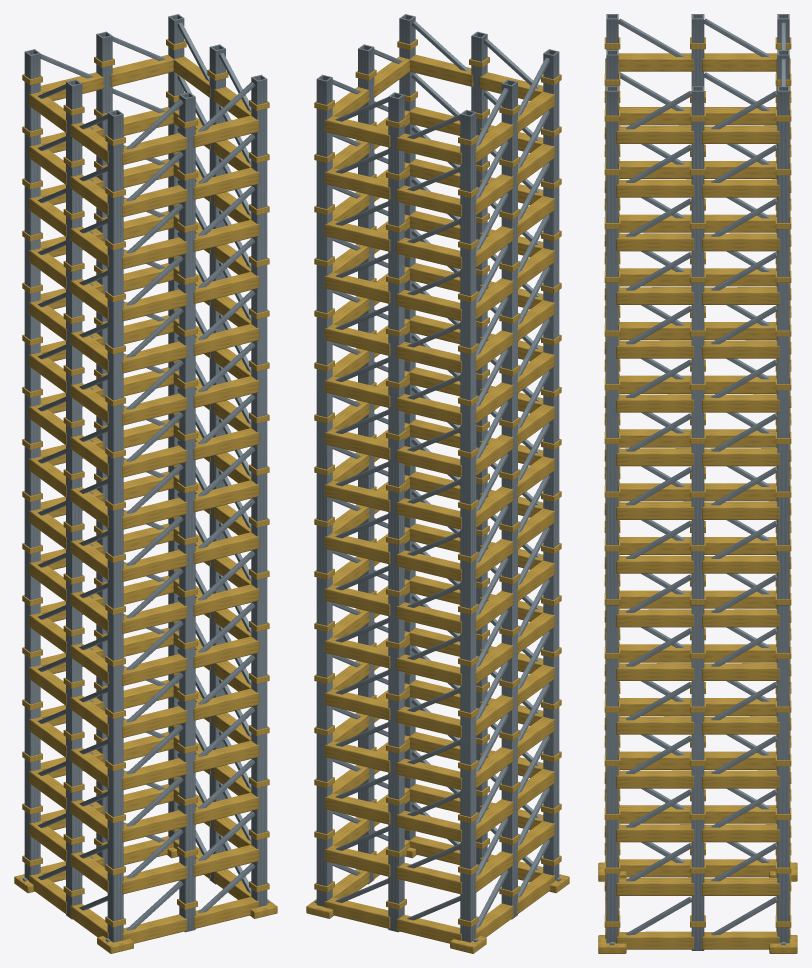
3 renders of one model, left to right at view 1: azimuth 30°, elevation 25°; view 2: azimuth 150°, elevation 25°; view 3: azimuth 270°, elevation 25°, orthographic. The views are drawn at different scales.
Visible parts, largest first — view 1: Tier 0 side 0 post 0, Tier 0 side 1 post 0, Tier 0 side 0 post 1, Tier 0 side 3 post 0, Tier 0 side 3 post 1, Tier 0 side 1 post 1, Tier 0 side 2 post 1, Tier 0 side 2 post 0, Tier 0 bay 0-5-1 service deck, Tier 0 bay 0-2-1 service deck, Tier 0 bay 0-8-1 service deck, Tier 0 bay 0-6-1 service deck (+89 smaller); view 2: Tier 0 side 3 post 0, Tier 0 side 2 post 0, Tier 0 side 2 post 1, Tier 0 side 0 post 0, Tier 0 side 3 post 1, Tier 0 side 1 post 1, Tier 0 side 0 post 1, Tier 0 side 1 post 0, Tier 0 bay 2-4-0 service deck, Tier 0 bay 2-11-0 service deck, Tier 0 bay 2-5-0 service deck, Tier 0 bay 2-10-0 service deck (+94 smaller); view 3: Tier 0 side 1 post 1, Tier 0 side 1 post 0, Tier 0 side 2 post 0, Tier 0 bay 1-2-1 service deck, Tier 0 bay 1-9-0 service deck, Tier 0 bay 1-9-1 service deck, Tier 0 bay 1-13-1 service deck, Tier 0 bay 1-2-0 service deck, Tier 0 bay 1-13-0 service deck, Tier 0 bay 1-6-1 service deck, Tier 0 bay 1-6-0 service deck, Tier 0 bay 1-10-1 service deck (+56 smaller).
Boxes of the visible parts, x1,y1,x2,y2 form: Tier 0 side 0 post 0: [107, 110, 123, 942]; Tier 0 side 1 post 0: [251, 74, 267, 906]; Tier 0 side 0 post 1: [179, 92, 195, 932]; Tier 0 side 3 post 0: [24, 49, 40, 880]; Tier 0 side 3 post 1: [66, 79, 82, 919]; Tier 0 side 1 post 1: [209, 44, 225, 884]; Tier 0 side 2 post 1: [96, 31, 112, 867]; Tier 0 side 2 post 0: [168, 14, 184, 839]; Tier 0 bay 0-5-1 service deck: [193, 636, 259, 668]; Tier 0 bay 0-2-1 service deck: [193, 792, 259, 824]; Tier 0 bay 0-8-1 service deck: [193, 480, 259, 512]; Tier 0 bay 0-6-1 service deck: [193, 584, 259, 616]; Tier 0 side 3 post 0: [460, 110, 476, 942]; Tier 0 side 2 post 0: [316, 74, 332, 906]; Tier 0 side 2 post 1: [388, 92, 404, 932]; Tier 0 side 0 post 0: [543, 49, 559, 880]; Tier 0 side 3 post 1: [501, 79, 517, 919]; Tier 0 side 1 post 1: [358, 44, 374, 884]; Tier 0 side 0 post 1: [471, 31, 487, 864]; Tier 0 side 1 post 0: [399, 14, 415, 840]; Tier 0 bay 2-4-0 service deck: [324, 689, 390, 720]; Tier 0 bay 2-11-0 service deck: [324, 324, 390, 355]; Tier 0 bay 2-5-0 service deck: [324, 637, 390, 668]; Tier 0 bay 2-10-0 service deck: [324, 376, 390, 407]; Tier 0 side 1 post 1: [691, 86, 704, 950]; Tier 0 side 1 post 0: [606, 86, 618, 943]; Tier 0 side 2 post 0: [777, 86, 789, 943]; Tier 0 bay 1-2-1 service deck: [702, 824, 779, 842]; Tier 0 bay 1-9-0 service deck: [616, 448, 693, 466]; Tier 0 bay 1-9-1 service deck: [702, 448, 779, 466]; Tier 0 bay 1-13-1 service deck: [702, 233, 779, 251]; Tier 0 bay 1-2-0 service deck: [616, 824, 693, 842]; Tier 0 bay 1-13-0 service deck: [616, 233, 693, 251]; Tier 0 bay 1-6-1 service deck: [702, 609, 779, 627]; Tier 0 bay 1-6-0 service deck: [616, 609, 693, 627]; Tier 0 bay 1-10-1 service deck: [702, 394, 779, 412].
Size of the model in its own units: 1.05 by 4.99 by 1.05.
Materials: 2 (2 with a texture image).
